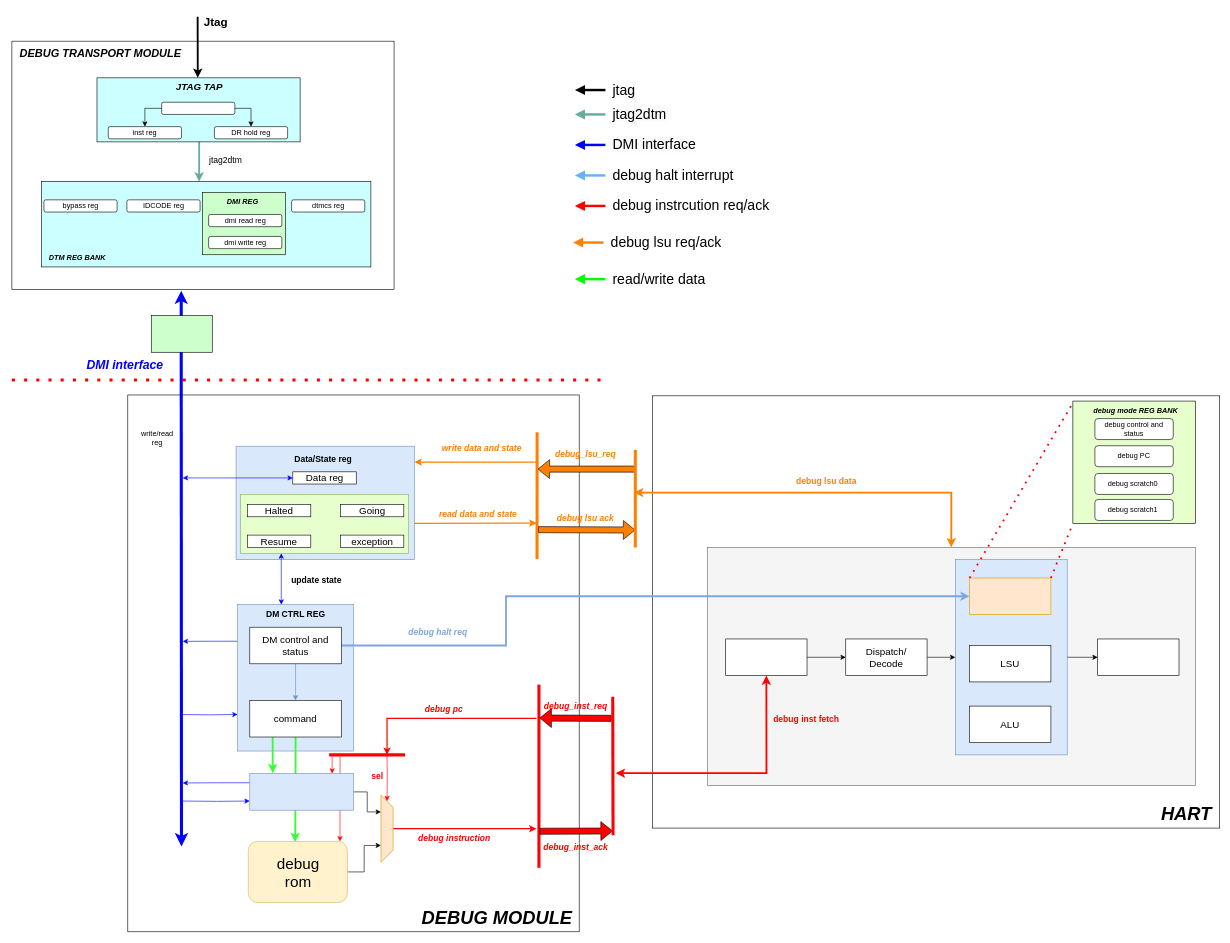
Some shapes in this 1230 by 943 pixel diagram are drawn without their labels. The shapes that lost their labels are listed below. From the top down, each one's centre as x and y in pixels, then its label:
pixel 198 108: shiift reg
pixel 181 333: DMI FIFO
pixel 1010 596: CSR
pixel 766 657: Fetch
pixel 1138 657: RTU
pixel 301 791: program buffer (debug ram)
pixel 386 828: mux
